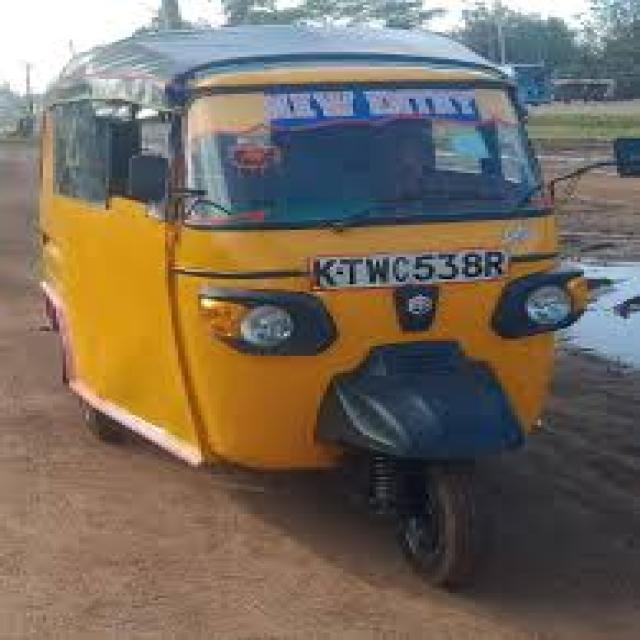tuktuk: (10, 0, 640, 610)
